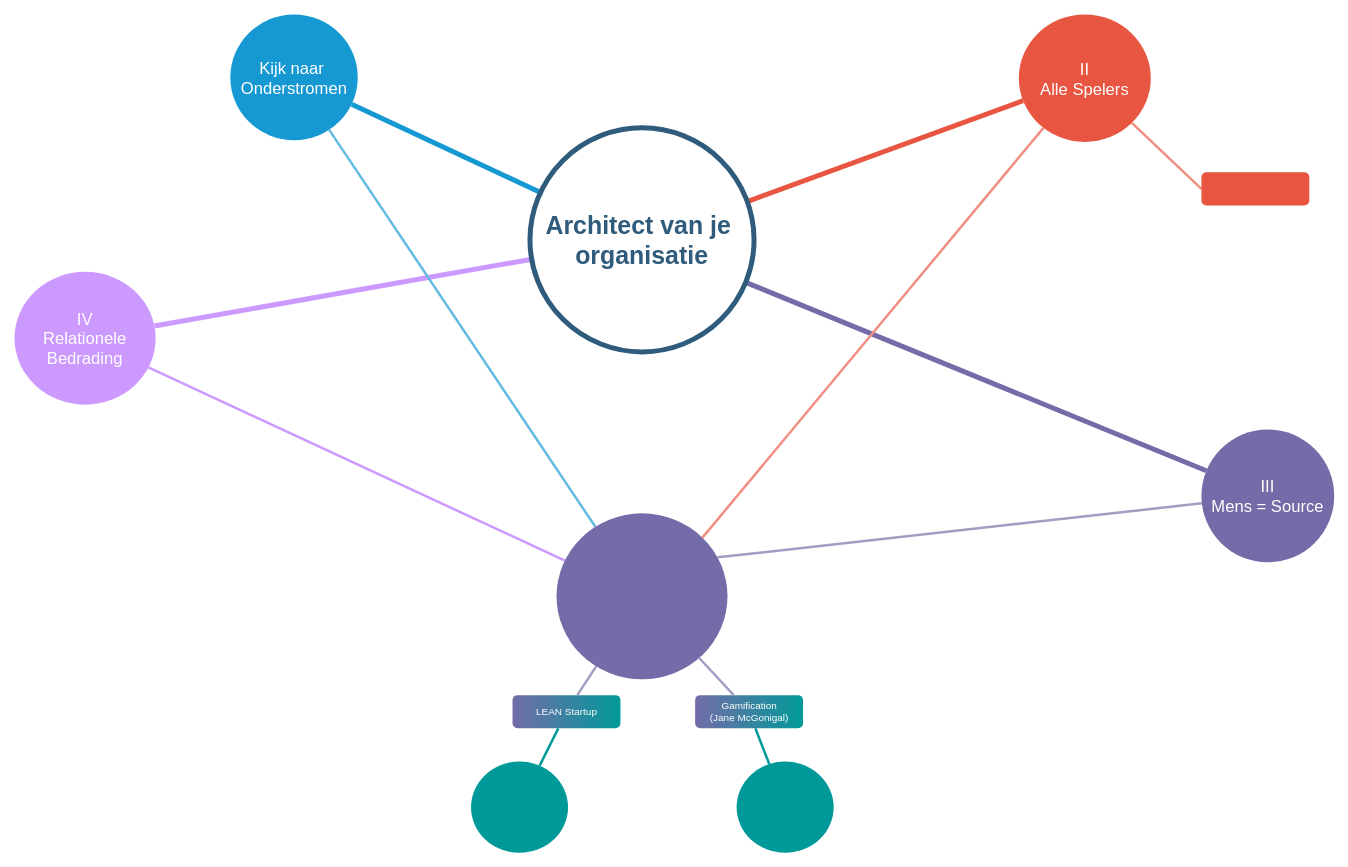
Some shapes in this 1348 by 867 pixel diagram are drawn without their labels. The shapes that lost their labels are listed below. From the top down, each one's box as (x1, y1, x2, y2) in pixels, then its label:
(1201, 172, 1309, 205): LSIM
(556, 513, 727, 679): V Prototypes
(471, 761, 568, 852): LEAN
(736, 761, 833, 852): ADaPT
